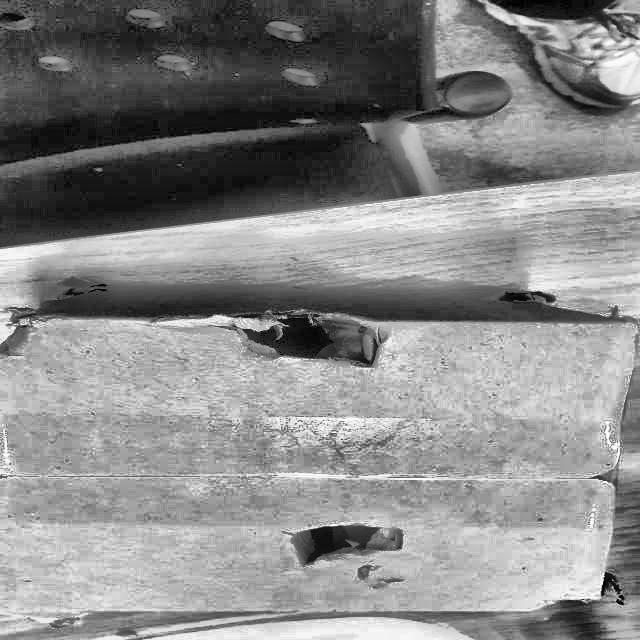box: (0, 270, 639, 617)
hole: (213, 313, 405, 369), (276, 518, 412, 567)
